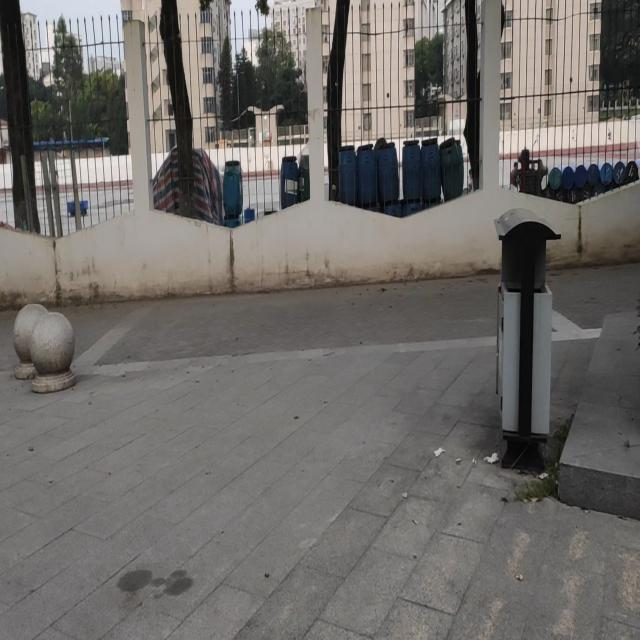ash bin: (492, 207, 561, 474)
spherical_roadblock: (31, 311, 76, 393), (15, 304, 48, 379)
